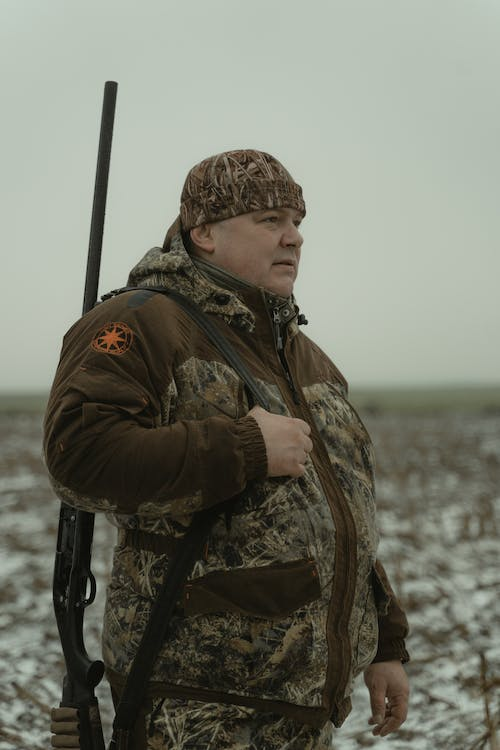gun: (46, 75, 120, 750)
